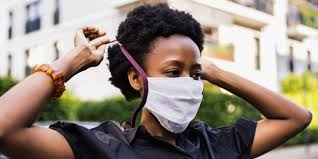FaceMask: (145, 77, 203, 133)
